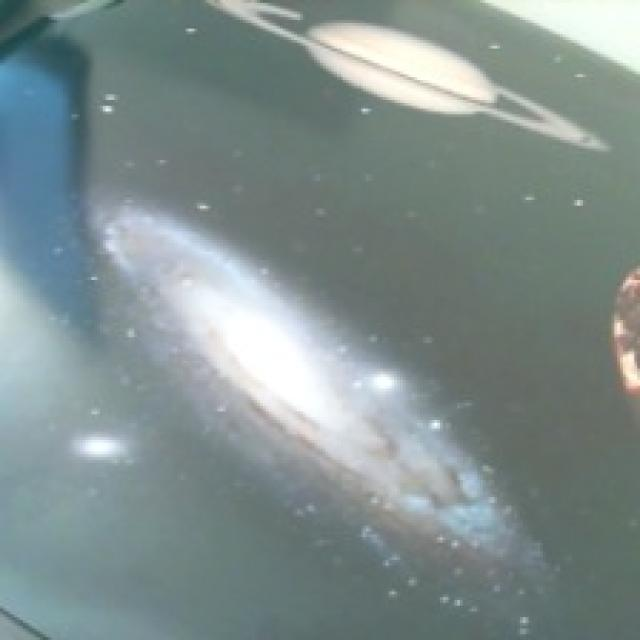Galaxy: (98, 192, 546, 582)
Saturn: (210, 0, 613, 156)
